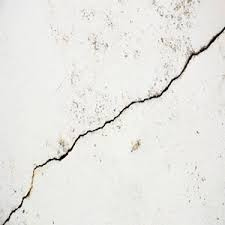crack: (0, 25, 224, 224)
